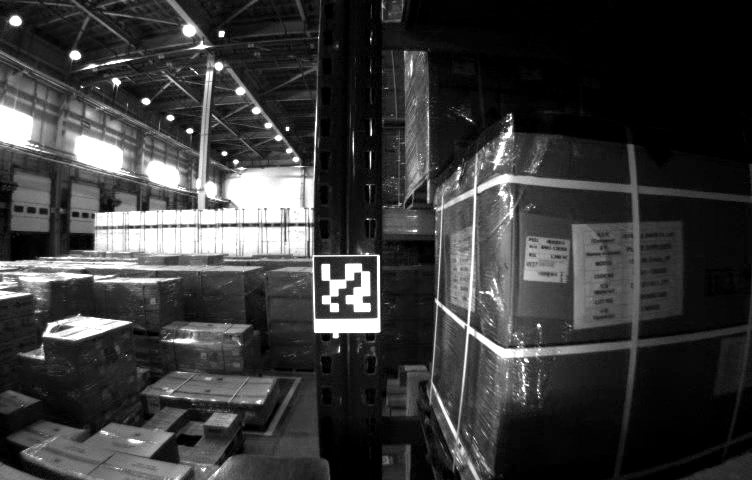True Barcode: (526, 235, 567, 282)
